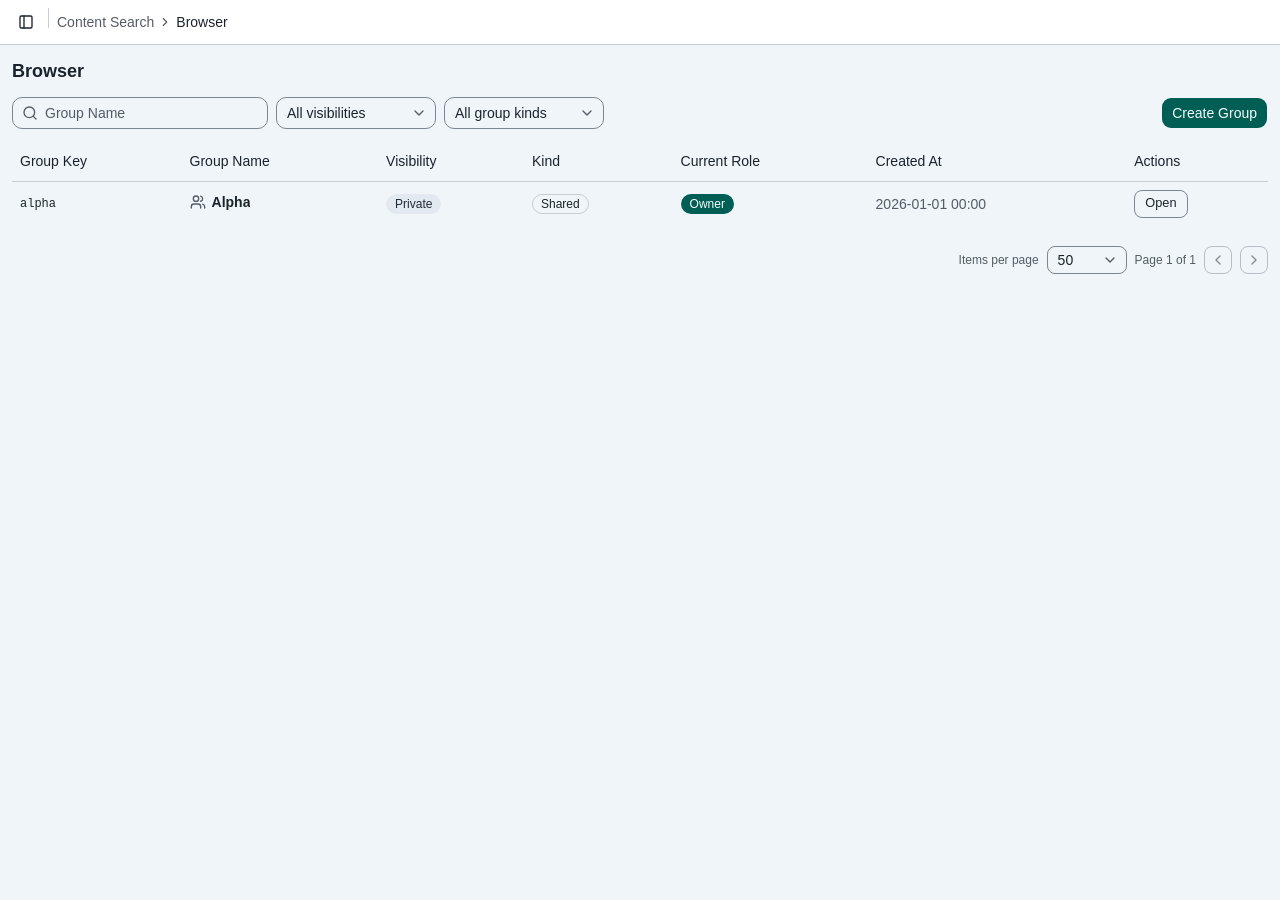
it: groups list page › keeps the dialog description free of duplicated field guidance
Expected: the row with test id "groups-row" is shown, [12,181,1268,226]
Click the button with test id "groups-create" at (1215, 113), box [1161,97,1268,129]
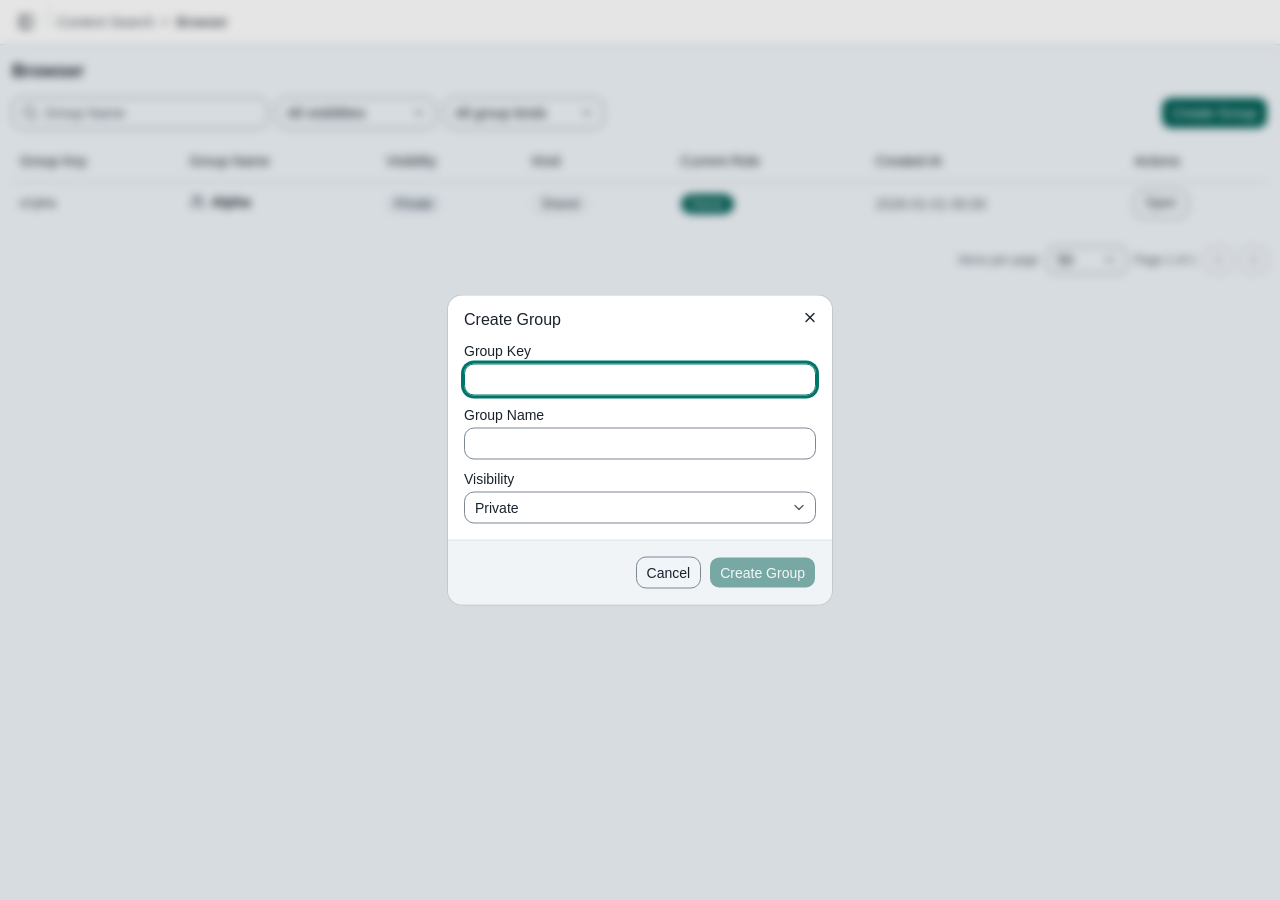
Expected: the dialog does not show "Group name and visibility.", [448,296,832,604]
Expected: the heading "Create Group" is shown, [464,310,561,328]
